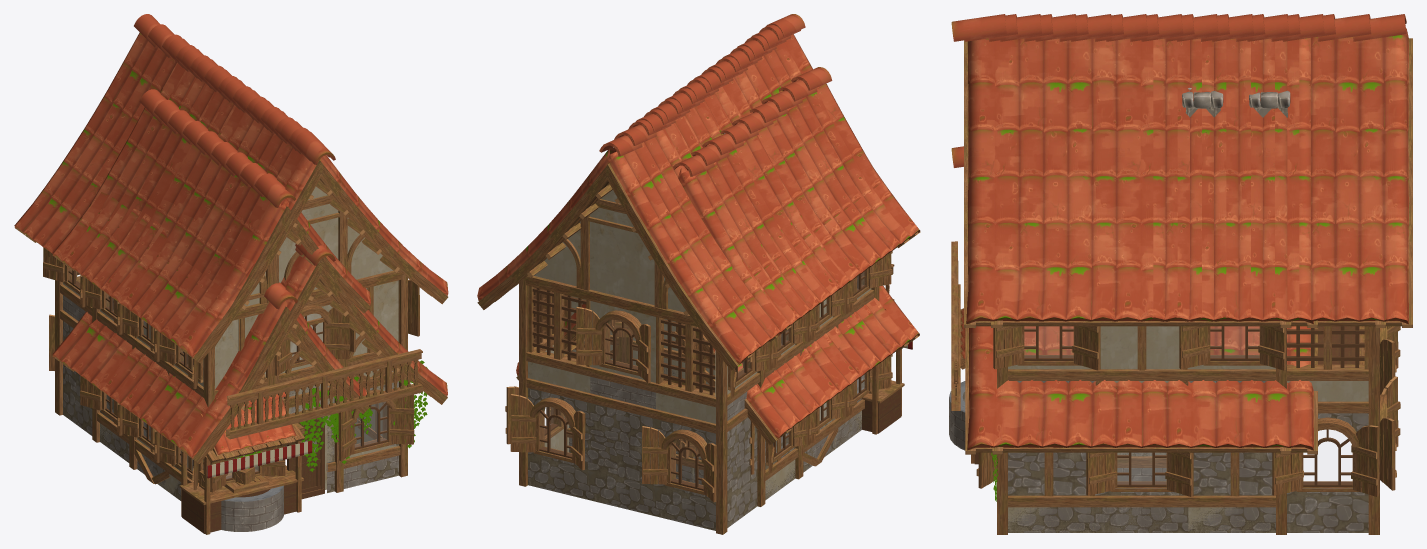
Rendered from village.glb.
3 renders of one model, left to right at view 1: azimuth 30°, elevation 25°; view 2: azimuth 150°, elevation 25°; view 3: azimuth 270°, elevation 25°, orthographic. The views are drawn at different scales.
Parts seen in each view (by area): view 1: P_Tavern, P_Long, P_Manor, P_Medium, P_Hut, P_Stall, P_Well, P_SmallA; view 2: P_Tavern, P_Long, P_Manor, P_Medium, P_Hut, P_Stall, P_SmallA; view 3: P_Tavern, P_Manor, P_Medium, P_Hut, P_Well.
Boxes of the visible parts, x1,y1,x2,y2 form: P_Tavern: (14, 14, 448, 462); P_Long: (80, 89, 370, 494); P_Manor: (52, 38, 438, 484); P_Medium: (52, 244, 447, 493); P_Hut: (124, 282, 369, 499); P_Stall: (179, 413, 312, 534); P_Well: (200, 392, 296, 531); P_SmallA: (154, 432, 198, 489); P_Tavern: (477, 25, 920, 534); P_Long: (610, 67, 892, 506); P_Manor: (550, 14, 919, 484); P_Medium: (516, 285, 919, 499); P_Hut: (790, 286, 888, 479); P_Stall: (861, 341, 912, 434); P_SmallA: (844, 354, 892, 417); P_Tavern: (951, 14, 1412, 534); P_Manor: (951, 14, 1324, 534); P_Medium: (951, 146, 1318, 532); P_Hut: (1117, 452, 1166, 481); P_Well: (949, 309, 965, 450).
Bounding box in the file's own units: 8.25 × 10.92 × 9.98.
Materials: 16 (9 with a texture image).
